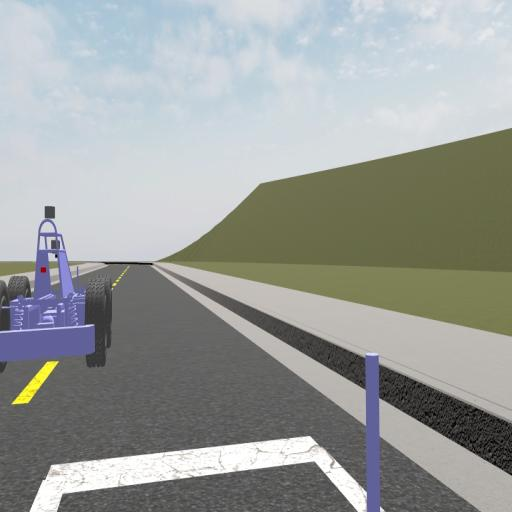ERP-42: (0, 205, 112, 370)
